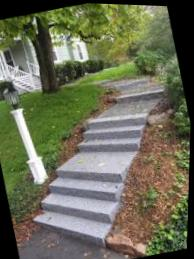Bench: (2, 62, 193, 252)
